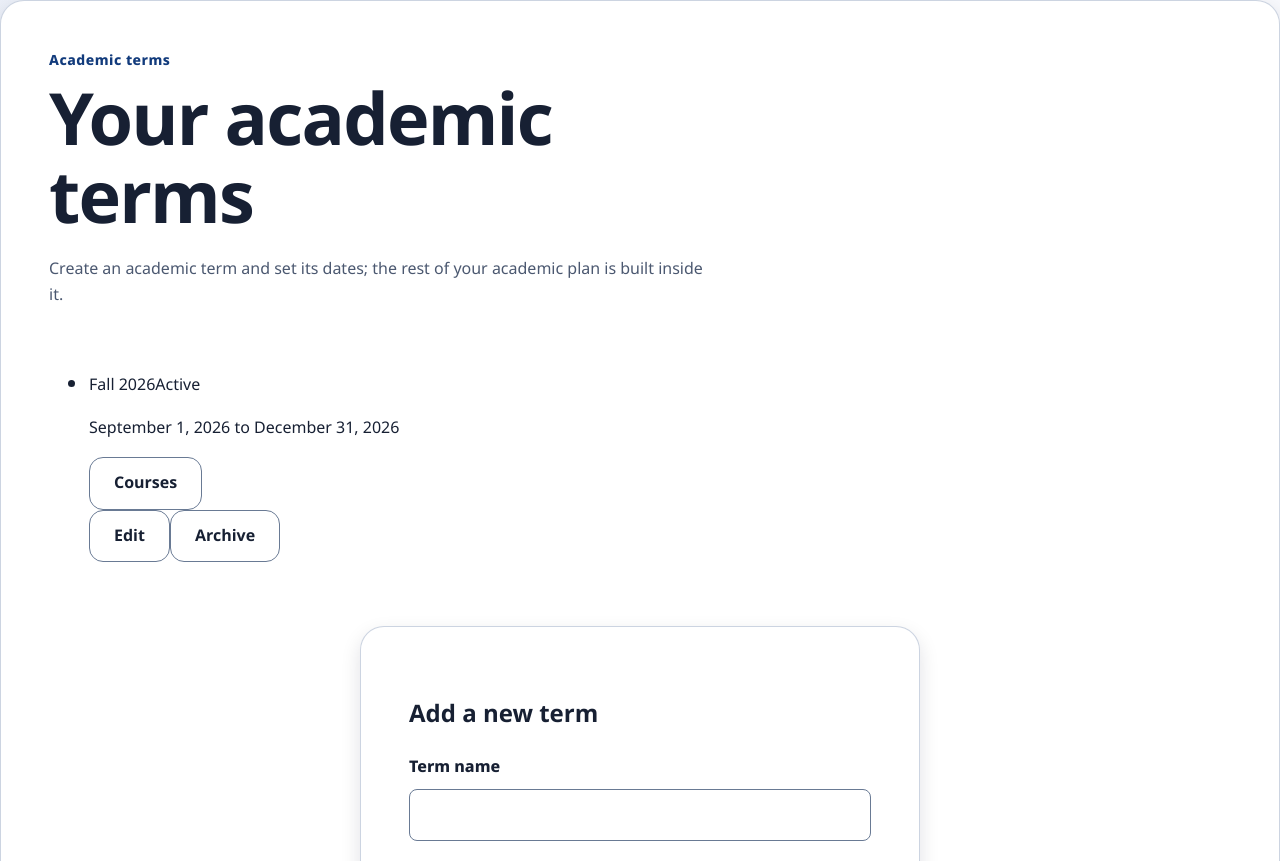
Test: academic term views › opens the edit form pre-filled with the term's current values
Click the button "Edit" at x=129, y=536, box [89,510,170,562]
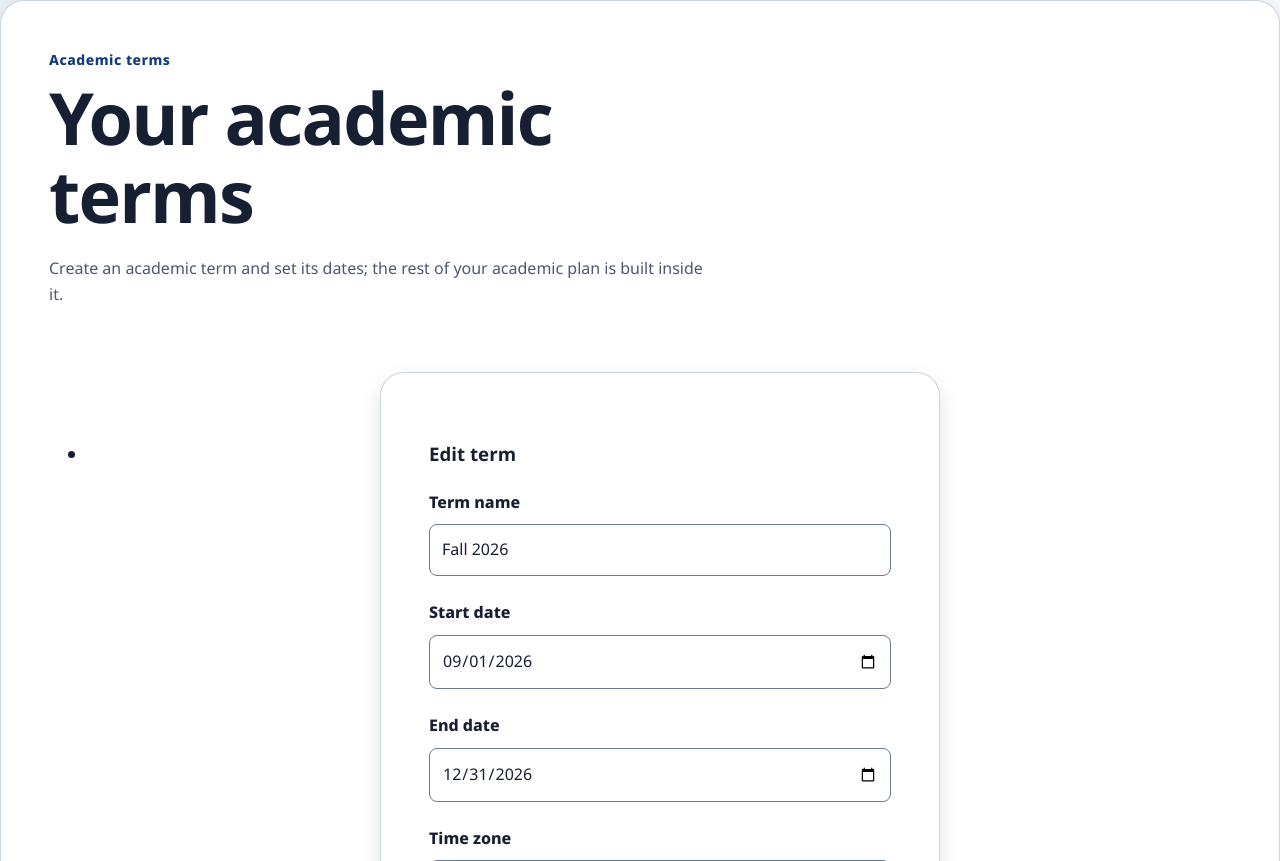
Check: the heading "Edit term" is shown, box [429,435,516,475]
Check: the field labelled "Term name" holds "Fall 2026", box [429,524,891,576]
